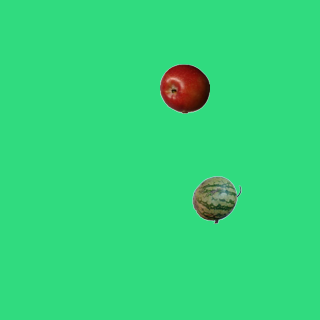Apple Braeburn: (159, 63, 209, 113)
Watermelon: (191, 174, 241, 224)
